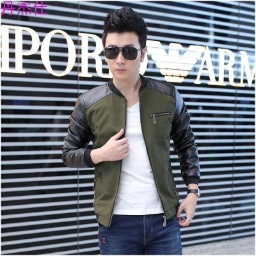face: (102, 8, 149, 80)
